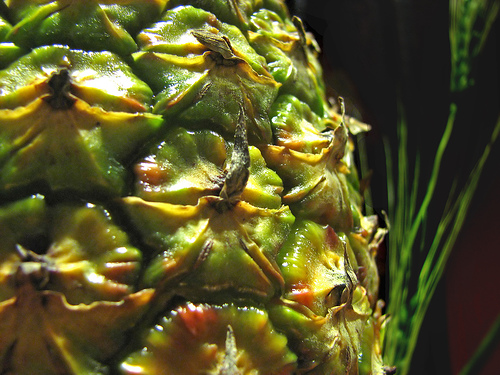pineapple: (3, 2, 396, 373)
